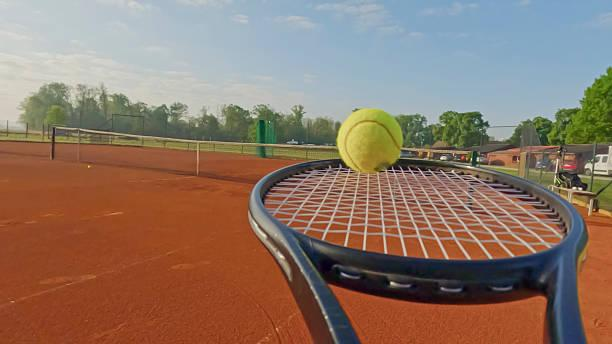ball_tennis: (336, 109, 403, 175)
